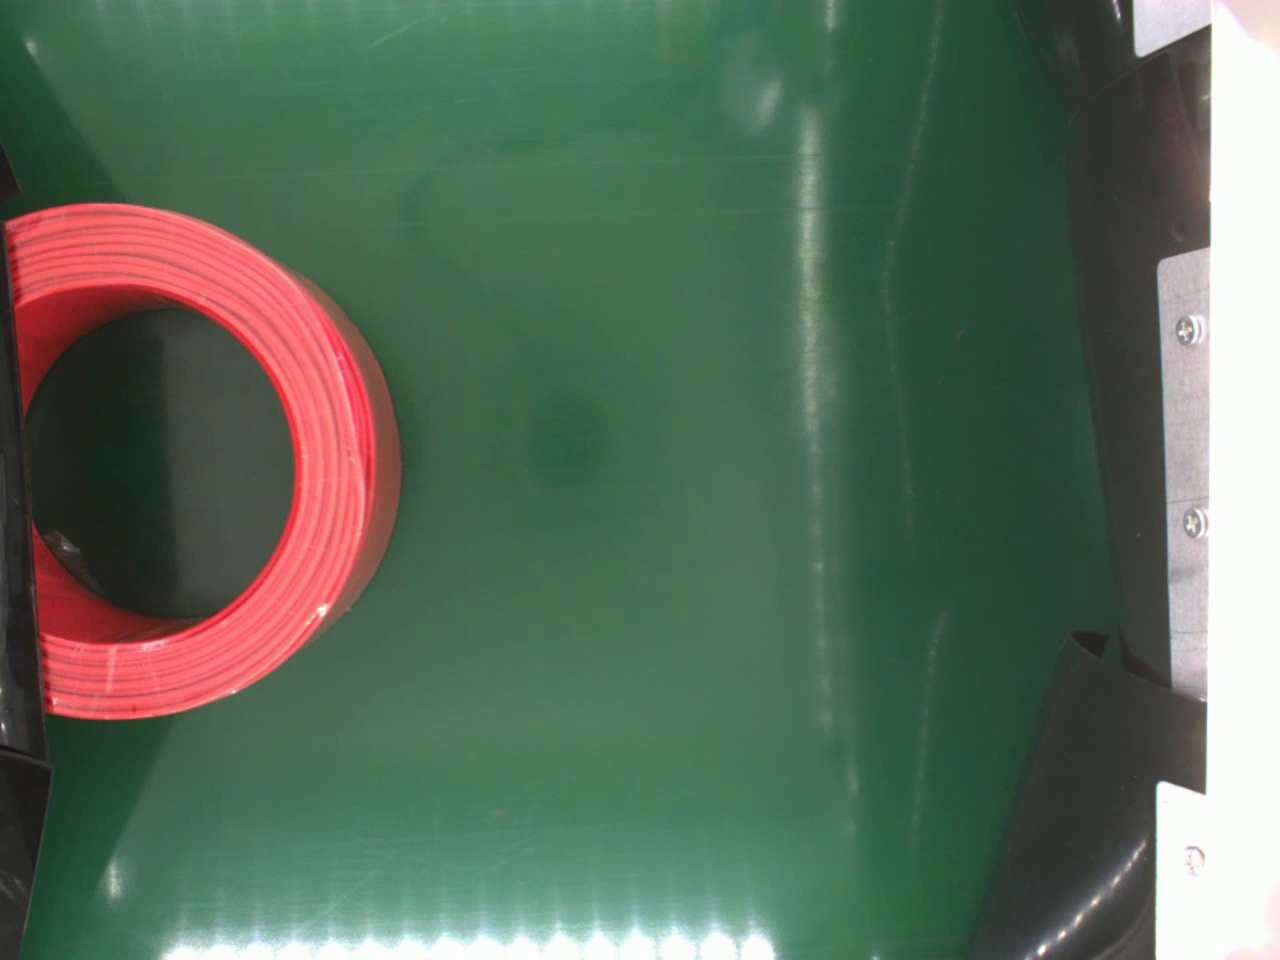red: (10, 197, 400, 727)
